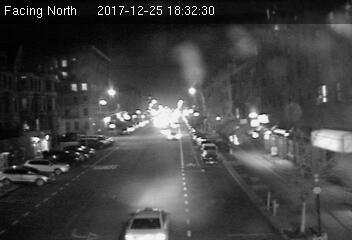car: (120, 203, 177, 239), (200, 150, 220, 165), (163, 130, 181, 141)
